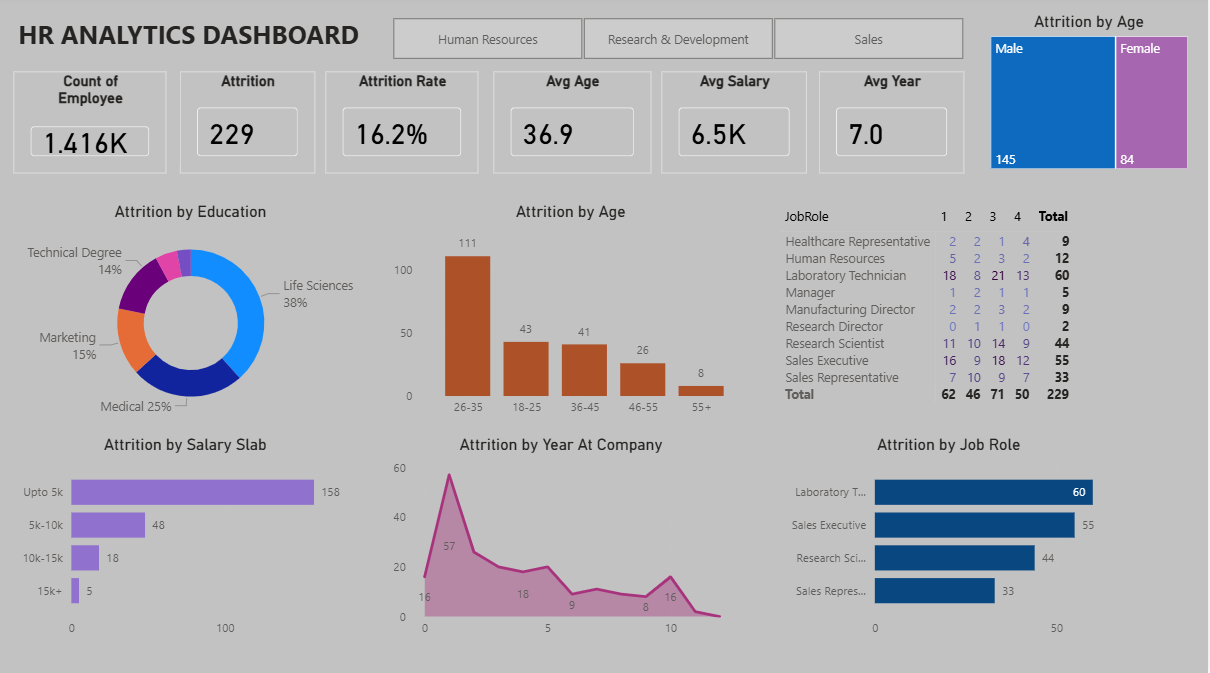

What the dashboard file says about the page in this screenshot:
{"tool":"powerbi","page":{"name":"Page 1","canvas":[1280,720],"ordinal":0},"visuals":[{"type":"cardVisual","title":"Count of Employee","fields":{"Data":["CountNonNull(HR_Analytics.EmpID)"]},"box":[13.8,81.1,162.2,108.2],"z":0},{"type":"cardVisual","title":"Attrition","fields":{"Data":["Sum(HR_Analytics.AttritionCount)"]},"box":[190.3,81.1,143.2,108.2],"z":1000},{"type":"cardVisual","title":"Attrition Rate","fields":{"Data":["HR_Analytics.Attrition Rate"]},"box":[344.6,81.1,162.2,108.2],"z":2000},{"type":"cardVisual","title":"Avg Age","fields":{"Data":["Avg(HR_Analytics.Age)"]},"box":[522.8,81.1,167,108.2],"z":3000},{"type":"cardVisual","title":"Avg Salary","fields":{"Data":["Avg(HR_Analytics.MonthlyIncome)"]},"box":[700.9,81.1,154.3,108.2],"z":4000},{"type":"cardVisual","title":"Avg Year","fields":{"Data":["Avg(HR_Analytics.YearsAtCompany)"]},"box":[867.9,81.1,154.3,108.2],"z":5000},{"type":"donutChart","title":"Attrition by Education","fields":{"Category":["HR_Analytics.EducationField"],"Y":["Sum(HR_Analytics.AttritionCount)"]},"box":[14.3,219.5,375.4,235.4],"z":6000},{"type":"columnChart","title":"Attrition by Age","fields":{"Category":["HR_Analytics.AgeGroup"],"Y":["Sum(HR_Analytics.AttritionCount)"]},"box":[412,219.5,386.5,235.4],"z":7000},{"type":"pivotTable","fields":{"Rows":["HR_Analytics.JobRole"],"Columns":["HR_Analytics.JobSatisfaction"],"Values":["Sum(HR_Analytics.AttritionCount)"]},"box":[822.3,219.5,367.4,235.4],"z":8000},{"type":"barChart","title":"Attrition by Salary Slab","fields":{"Category":["HR_Analytics.SalarySlab"],"Y":["Sum(HR_Analytics.AttritionCount)"]},"box":[14.3,466,364.2,222.7],"z":9000},{"type":"barChart","title":"Attrition by Job Role","fields":{"Category":["HR_Analytics.JobRole"],"Y":["Sum(HR_Analytics.AttritionCount)"]},"box":[822.3,466,367.4,222.7],"z":10000},{"type":"stackedAreaChart","title":"Attrition by Year At Company","fields":{"Y":["Sum(HR_Analytics.AttritionCount)"],"Category":["HR_Analytics.YearsAtCompany"]},"box":[412,466,365.8,222.7],"z":11000},{"type":"treemap","title":"Attrition by Age","fields":{"Group":["HR_Analytics.Gender"],"Values":["Sum(HR_Analytics.AttritionCount)"]},"box":[1045,17.5,219.5,171.8],"z":12000},{"type":"slicer","fields":{"Values":["HR_Analytics.Department"]},"box":[391.3,17.5,653.7,57.3],"z":13000},{"type":"textbox","box":[14.3,17.5,391.3,57.3],"z":14000}]}

Visuals, with their boxes in screenshot pixels (x1, y1, x2, y2), scaled from the page's 1280x720 canvas onto the 1210x673 screenshot:
"Count of Employee" cardVisual: {"x1": 13, "y1": 76, "x2": 166, "y2": 177}
"Attrition" cardVisual: {"x1": 180, "y1": 76, "x2": 315, "y2": 177}
"Attrition Rate" cardVisual: {"x1": 326, "y1": 76, "x2": 479, "y2": 177}
"Avg Age" cardVisual: {"x1": 494, "y1": 76, "x2": 652, "y2": 177}
"Avg Salary" cardVisual: {"x1": 663, "y1": 76, "x2": 808, "y2": 177}
"Avg Year" cardVisual: {"x1": 820, "y1": 76, "x2": 966, "y2": 177}
"Attrition by Education" donutChart: {"x1": 14, "y1": 205, "x2": 368, "y2": 425}
"Attrition by Age" columnChart: {"x1": 389, "y1": 205, "x2": 755, "y2": 425}
pivotTable - HR_Analytics.JobRole x HR_Analytics.JobSatisfaction: {"x1": 777, "y1": 205, "x2": 1125, "y2": 425}
"Attrition by Salary Slab" barChart: {"x1": 14, "y1": 436, "x2": 358, "y2": 644}
"Attrition by Job Role" barChart: {"x1": 777, "y1": 436, "x2": 1125, "y2": 644}
"Attrition by Year At Company" stackedAreaChart: {"x1": 389, "y1": 436, "x2": 735, "y2": 644}
"Attrition by Age" treemap: {"x1": 988, "y1": 16, "x2": 1195, "y2": 177}
slicer - HR_Analytics.Department: {"x1": 370, "y1": 16, "x2": 988, "y2": 70}
textbox: {"x1": 14, "y1": 16, "x2": 383, "y2": 70}
